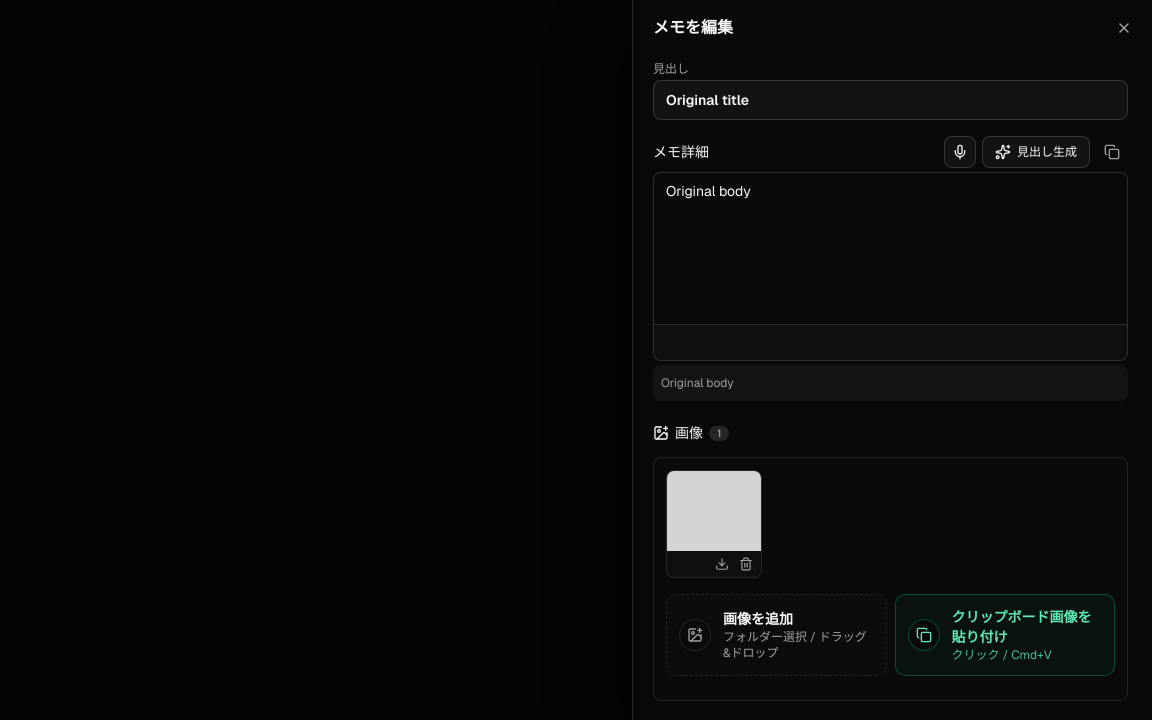
Test: WishlistCardDetail › 画像削除に失敗したらサムネイルを戻す
Click the button titled "削除": (746, 564) top-left (735, 553), bottom-right (757, 575)
(page scrolled)
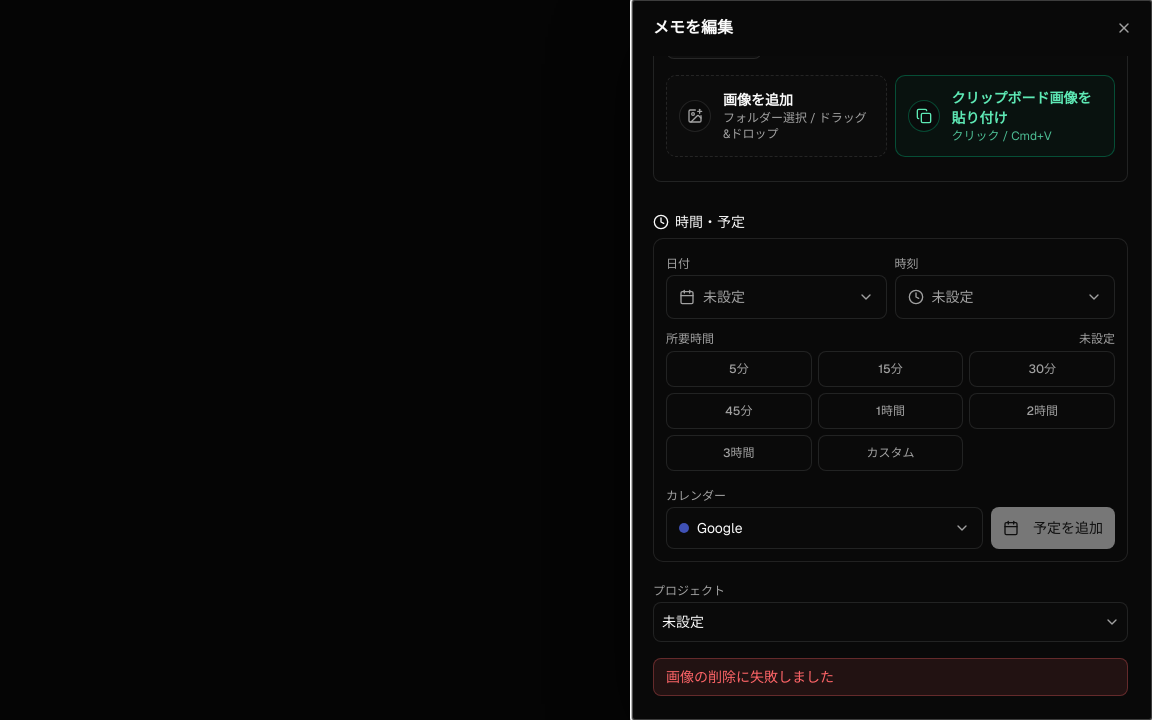
Result: the text "画像の削除に失敗しました" is shown at top-left (653, 658), bottom-right (1128, 696)
